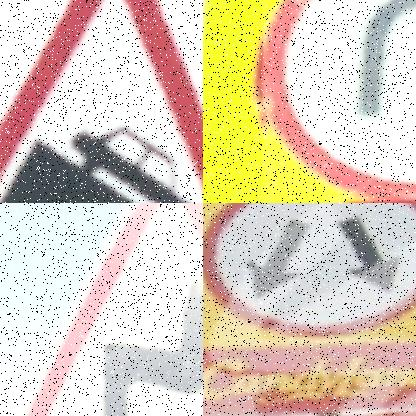Road Divides: (203, 203, 416, 416)
Zigzag Road Ahead: (20, 203, 203, 416)
